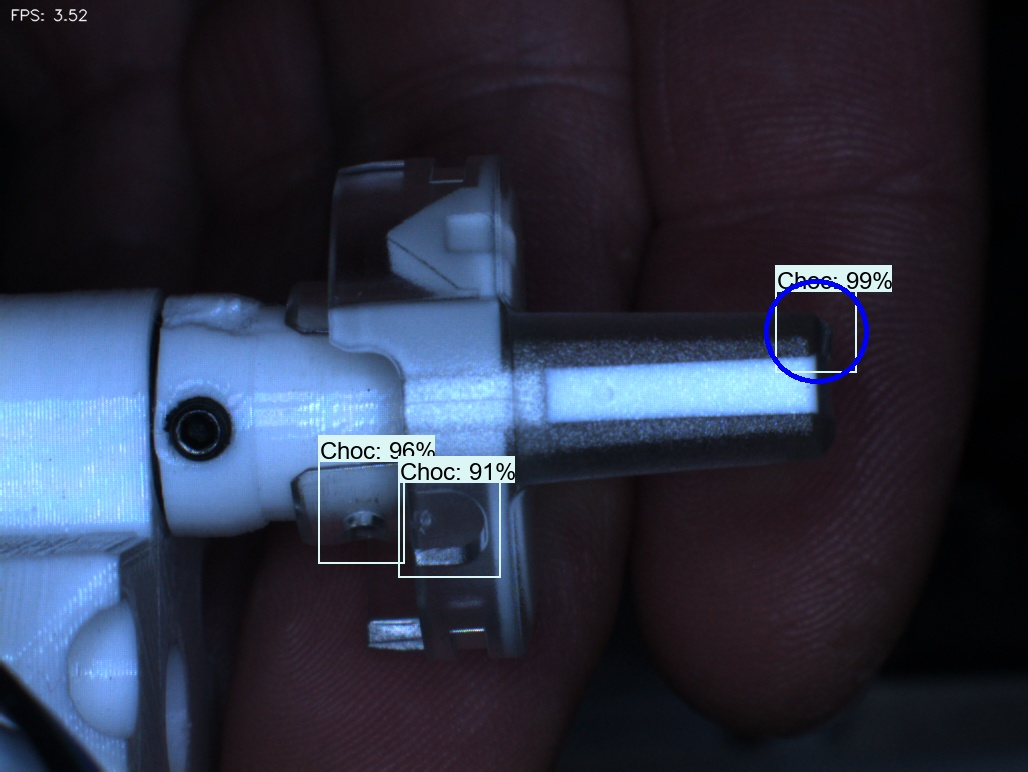DentOk: (357, 207, 433, 297)
